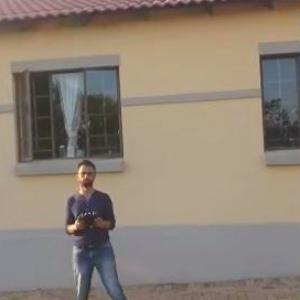follow: (58, 154, 134, 299)
